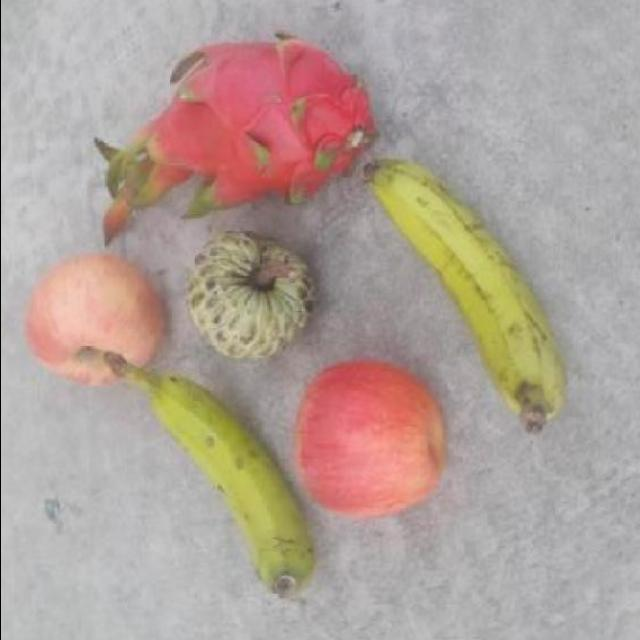apple: (290, 360, 446, 520), (21, 252, 166, 386)
banana: (358, 78, 564, 436), (103, 349, 313, 602)
dragon fruit: (135, 31, 381, 216)
sugar apple: (180, 226, 320, 362)
